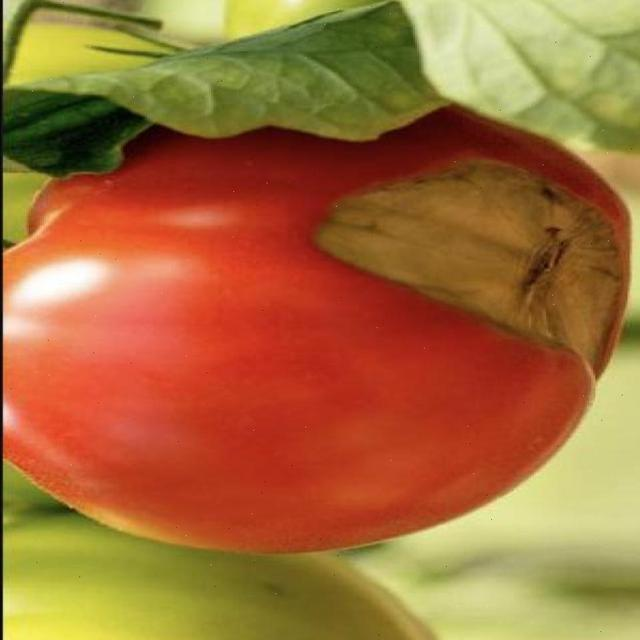Blossom End Rot Fruit: (202, 104, 418, 254)
